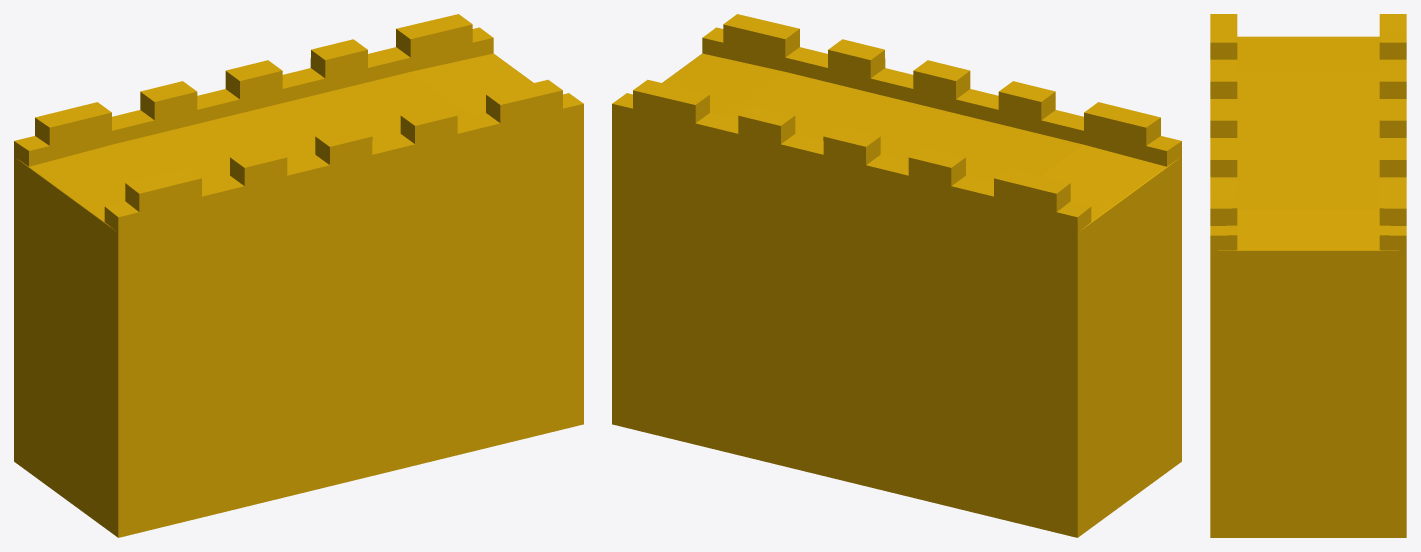
The model's file is SandCastleWall.fbx.
3 views of the same model, side by side, from view 1: azimuth 30°, elevation 25°; view 2: azimuth 150°, elevation 25°; view 3: azimuth 270°, elevation 25° (orthographic). The views are drawn at different scales.
Visible parts, largest first — view 1: Cube.003; view 2: Cube.003; view 3: Cube.003.
Boxes of the visible parts, box(x1,y1,x2,y2) form: Cube.003: box(14, 14, 583, 537); Cube.003: box(612, 14, 1181, 537); Cube.003: box(1210, 14, 1406, 537).
Size of the model in its own units: 391 by 273 by 152.
